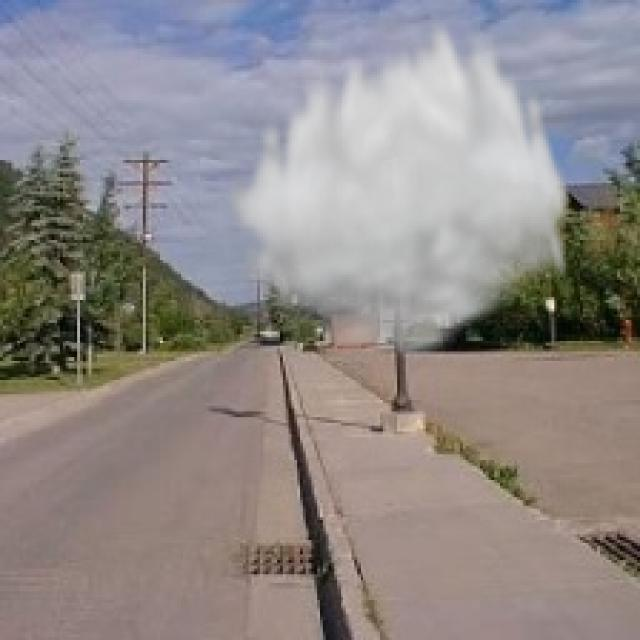smoke: (223, 8, 574, 363)
